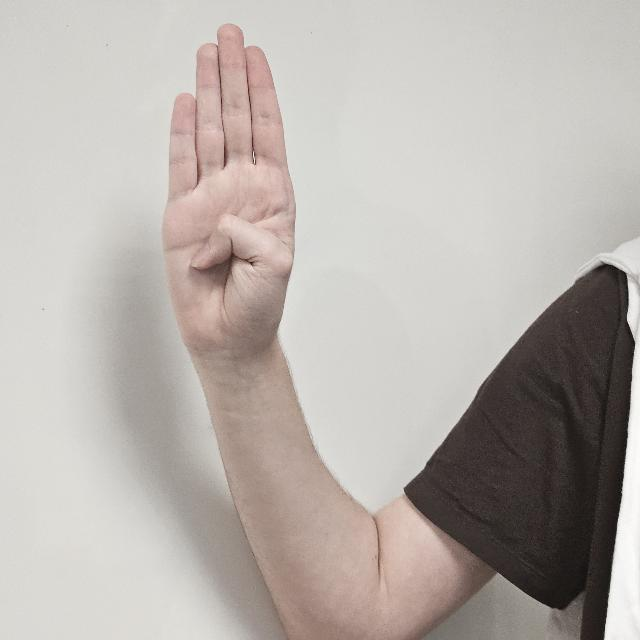Baixo: (149, 19, 315, 409)
